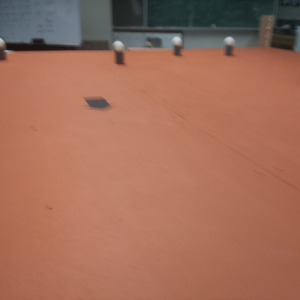corner: (257, 14, 273, 51)
obstacle: (112, 40, 128, 66), (220, 37, 234, 56), (172, 36, 183, 59), (1, 36, 5, 60)
start: (80, 92, 113, 113)
